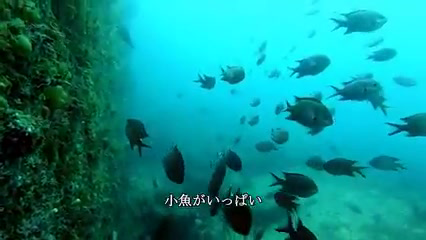mezina: (276, 96, 344, 135), (319, 153, 383, 186), (267, 166, 326, 201), (328, 9, 399, 37), (332, 75, 387, 105), (283, 54, 341, 78), (121, 116, 155, 155), (193, 71, 219, 93)
